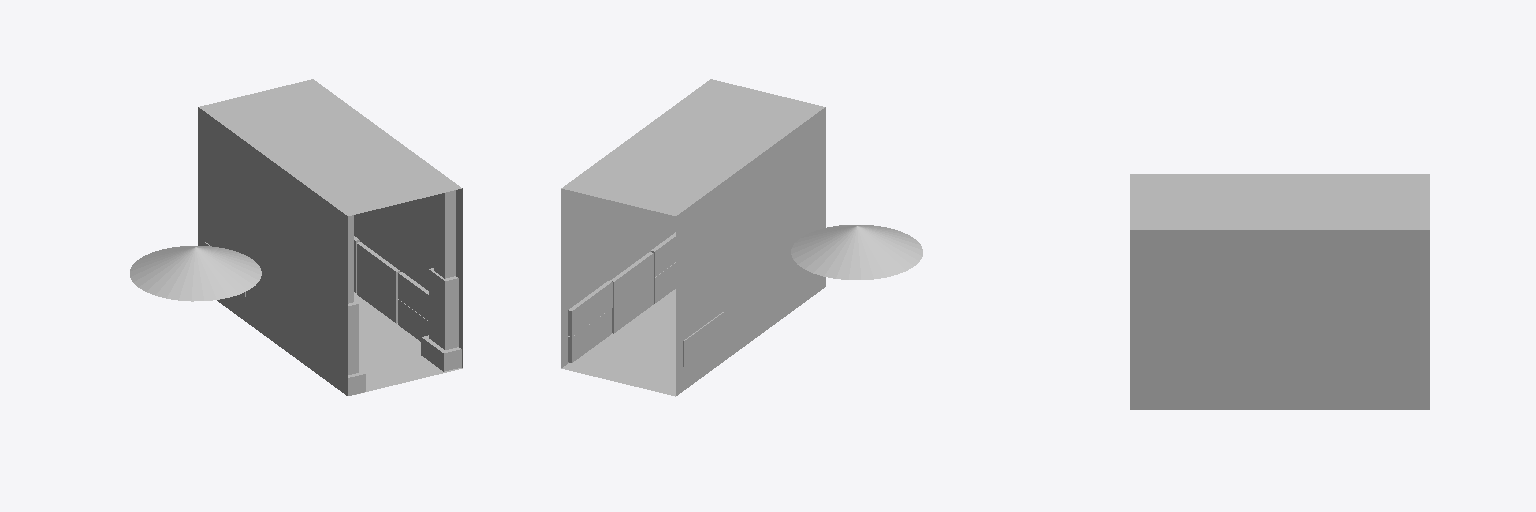
Rendered from quit.obj.
The picture shows the model from 3 angles: view 1: azimuth 30°, elevation 25°; view 2: azimuth 150°, elevation 25°; view 3: azimuth 270°, elevation 25°; orthographic projection.
Parts seen in each view (by area): view 1: Plane, Cone_Cone.001, Cube.002, Cube.001, Cube.013_Cube.015, Cube.012_Cube.014, Cube.010_Cube.012, Cube.011_Cube.013; view 2: Plane, Cone_Cone.001, Cube.014_Cube.016, Cube.013_Cube.015, Cube.015_Cube.017, Cube.008, Cube.012_Cube.014, Cube.010_Cube.012, Cube.011_Cube.013; view 3: Plane, Cube.015_Cube.017.
Part boxes in pixels (x1,y1,x2,y2): Plane: (198,79,462,395); Cone_Cone.001: (130,246,261,301); Cube.002: (421,190,461,371); Cube.001: (348,215,365,395); Cube.013_Cube.015: (357,242,399,297); Cube.012_Cube.014: (357,269,397,323); Cube.010_Cube.012: (398,272,428,320); Cube.011_Cube.013: (398,299,428,341); Plane: (561,79,825,396); Cone_Cone.001: (791,225,922,279); Cube.014_Cube.016: (568,281,612,336); Cube.013_Cube.015: (610,252,653,307); Cube.015_Cube.017: (568,308,611,362); Cube.008: (683,312,723,366); Cube.012_Cube.014: (612,279,653,333); Cube.010_Cube.012: (651,232,675,277); Cube.011_Cube.013: (654,262,675,303); Plane: (1130,174,1429,409); Cube.015_Cube.017: (1336,383,1415,408).
Bounding box in the file's own units: 4.6 × 3 × 4.52.